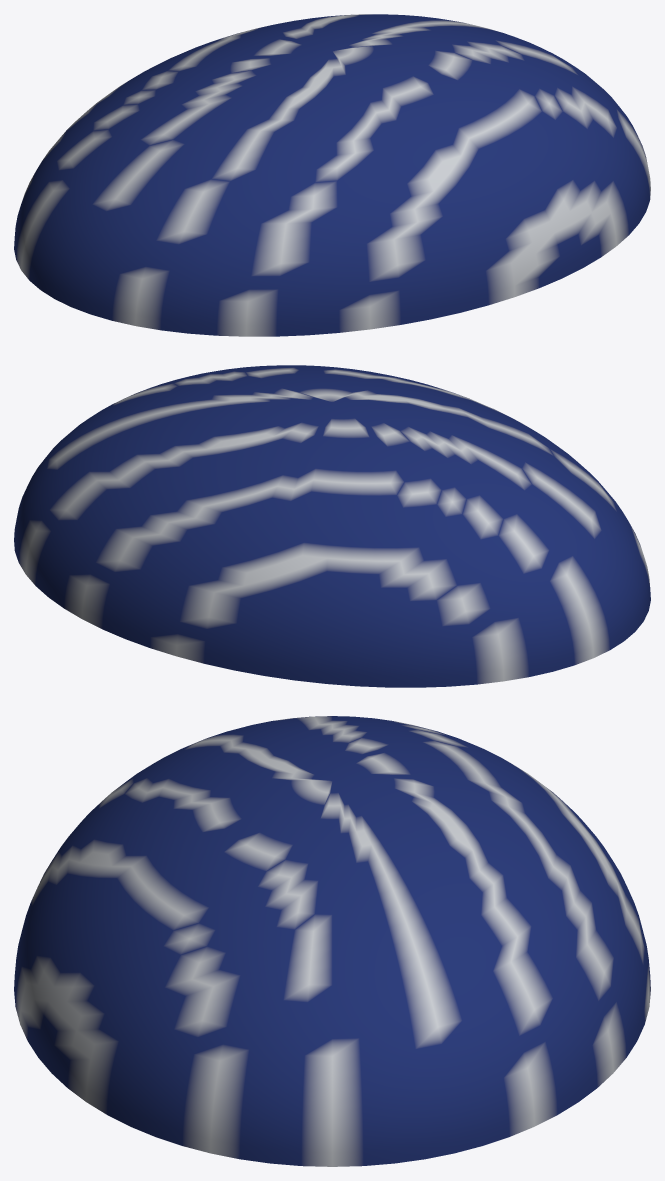
The model's file is sodalite.glb.
3 views of the same model, one above another, from view 1: azimuth 30°, elevation 25°; view 2: azimuth 150°, elevation 25°; view 3: azimuth 270°, elevation 25° (orthographic). The views are drawn at different scales.
Visible parts, largest first — view 1: sodalite; view 2: sodalite; view 3: sodalite.
Boxes of the visible parts, x1,y1,x2,y2 form: sodalite: (14,14,650,336); sodalite: (14,365,650,687); sodalite: (14,716,650,1166).
Bounding box in the file's own units: 0.25 × 0.0688 × 0.19.
